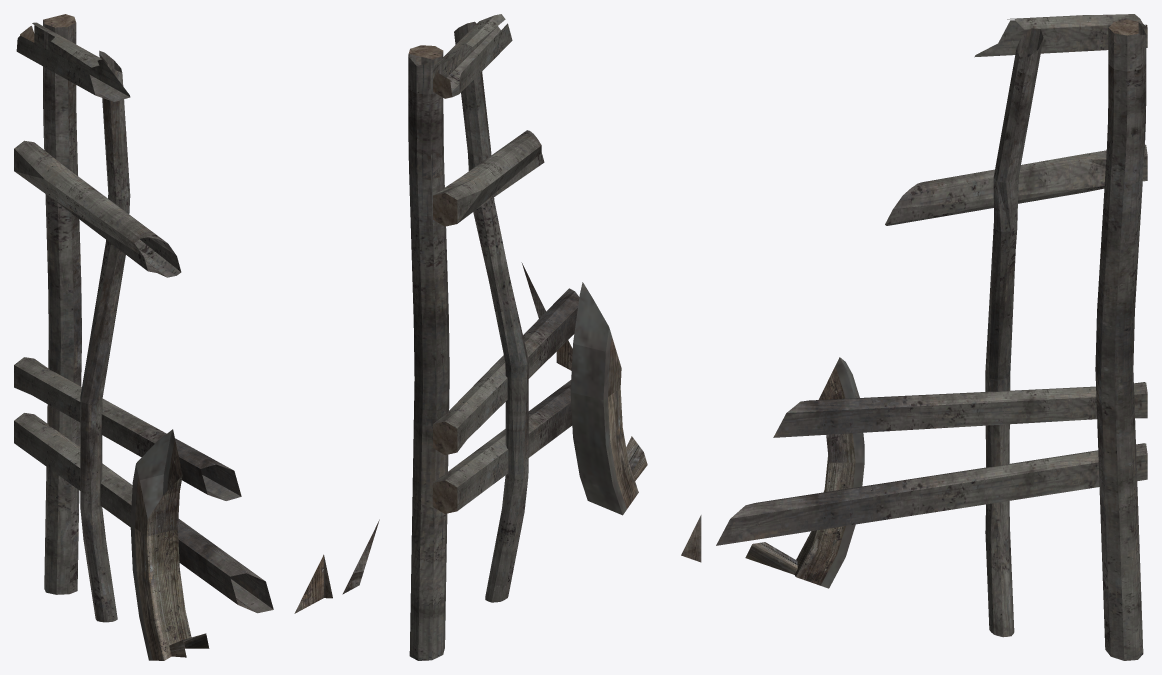
File: Wagon3_19.fbx
3 renders of one model, left to right at view 1: azimuth 30°, elevation 25°; view 2: azimuth 150°, elevation 25°; view 3: azimuth 270°, elevation 25°, orthographic. The views are drawn at different scales.
Parts seen in each view (by area): view 1: SM_Wagon03_DM.019; view 2: SM_Wagon03_DM.019; view 3: SM_Wagon03_DM.019.
Part boxes in pixels (<box>): SM_Wagon03_DM.019: <box>14,14,379,660</box>; SM_Wagon03_DM.019: <box>408,14,647,660</box>; SM_Wagon03_DM.019: <box>681,14,1147,660</box>.
Size of the model in its own units: 4208 by 14059 by 9570.
Materials: 2 (2 with a texture image).
